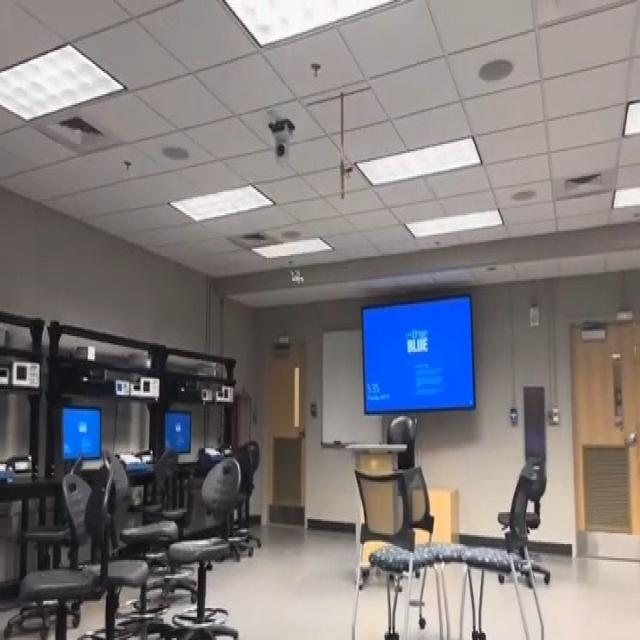drone: (283, 260, 311, 302)
